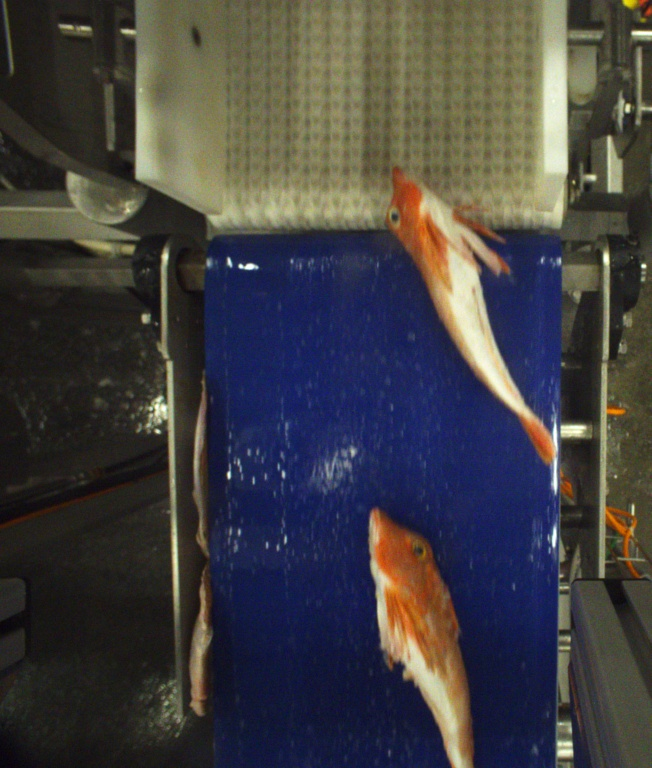GUU: (369, 509, 476, 768)
